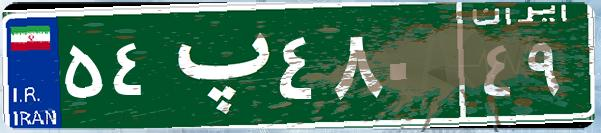0: (385, 28, 445, 110)
4: (273, 28, 330, 110), (475, 38, 525, 113), (110, 28, 158, 105)
5: (57, 26, 110, 107)
8: (330, 28, 385, 110)
9: (525, 38, 570, 115)
پ: (158, 15, 273, 115)
